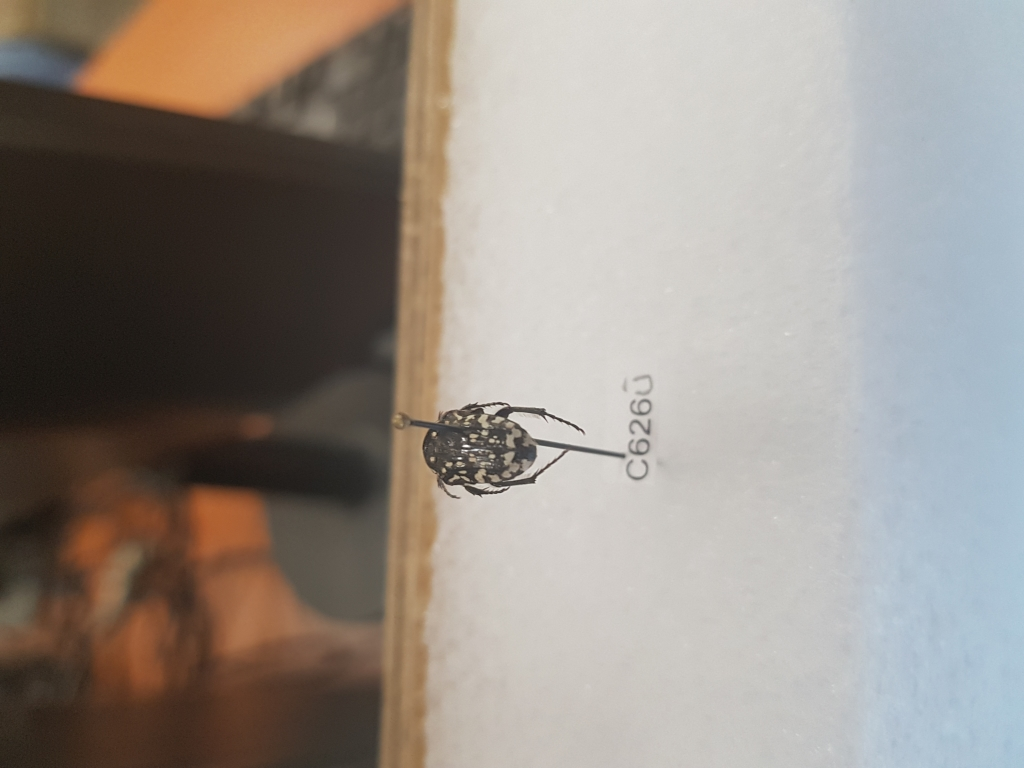Oxythyrea_funesta: (415, 400, 587, 499)
